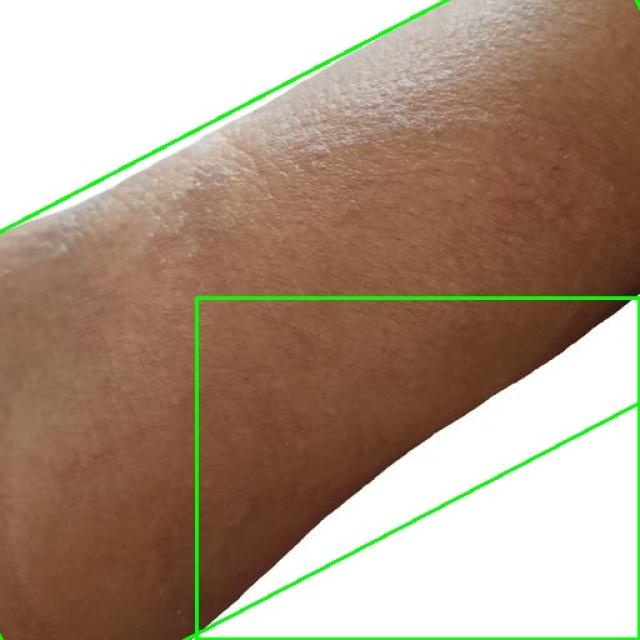Tinea Corporis: (0, 0, 640, 640), (196, 298, 639, 639)
